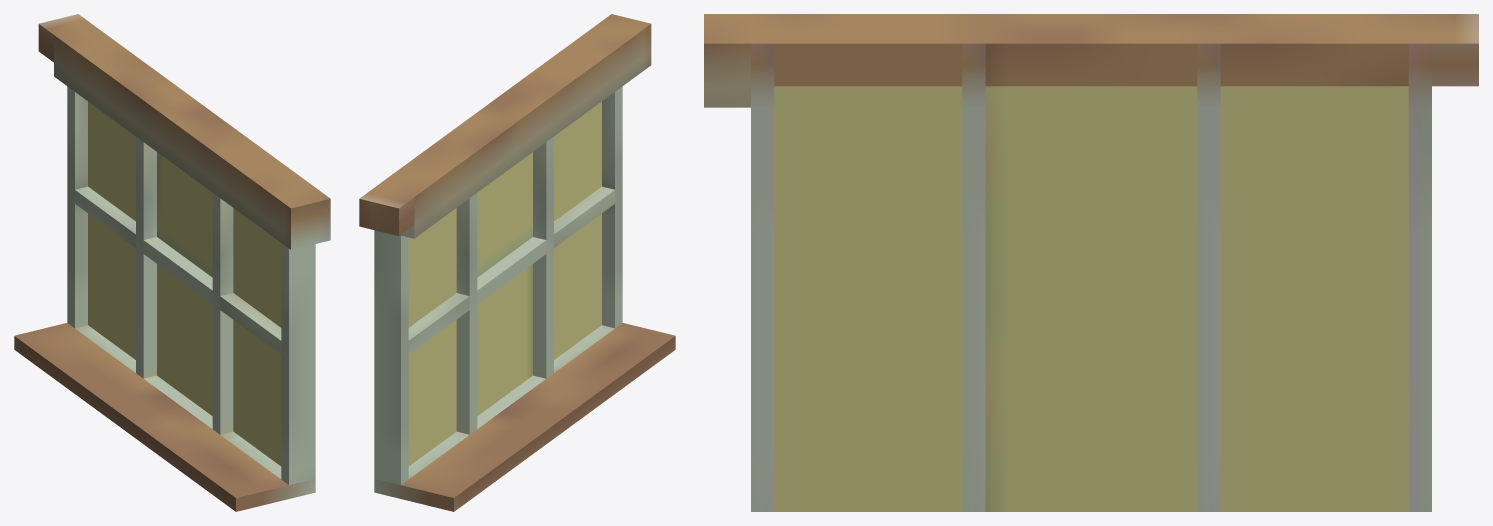
File: WindowFrame4PaneWiderInside_00.fbx
The picture shows the model from 3 angles, left to right: view 1: azimuth 30°, elevation 25°; view 2: azimuth 150°, elevation 25°; view 3: azimuth 270°, elevation 25°; orthographic projection. The views are drawn at different scales.
Visible parts, largest first — view 1: WindowFrame4PaneWiderInside_00; view 2: WindowFrame4PaneWiderInside_00; view 3: WindowFrame4PaneWiderInside_00.
Boxes of the visible parts, left/top/right/bottom form: WindowFrame4PaneWiderInside_00: left=14, top=14, right=330, bottom=511; WindowFrame4PaneWiderInside_00: left=359, top=14, right=675, bottom=511; WindowFrame4PaneWiderInside_00: left=704, top=14, right=1478, bottom=511.
Size of the model in its own units: 30 by 165 by 110.
Materials: 2 (2 with a texture image).
